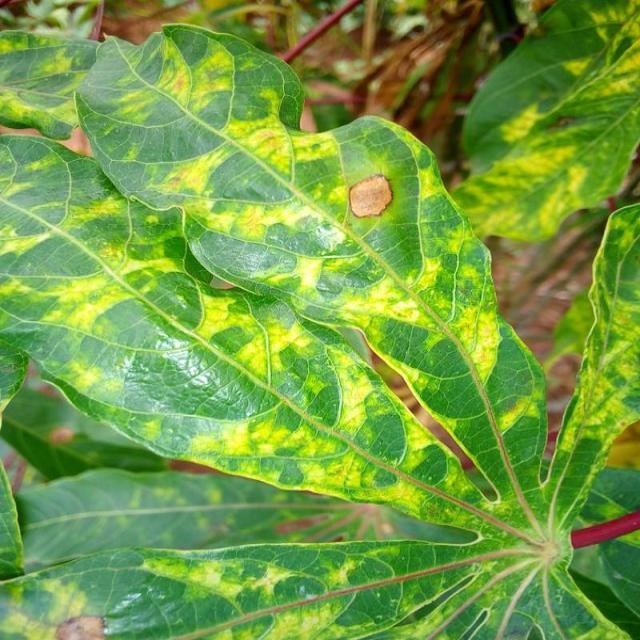cassava leaf: (2, 22, 550, 528)
